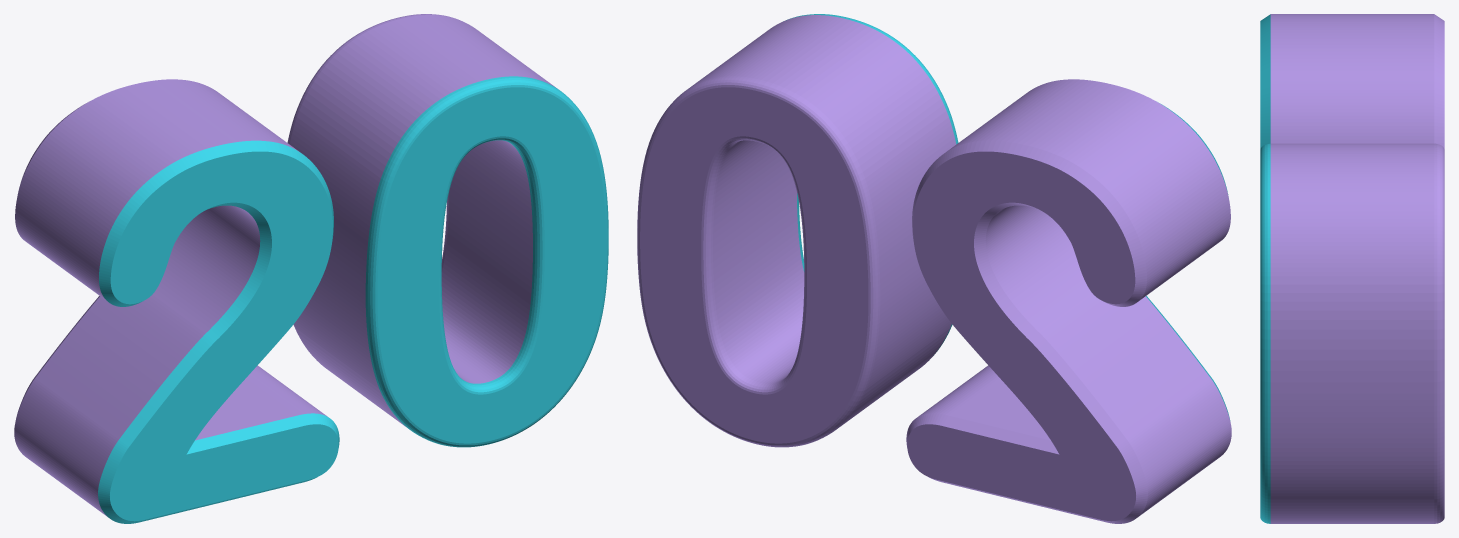
The picture shows the model from 3 angles, left to right: view 1: azimuth 30°, elevation 25°; view 2: azimuth 150°, elevation 25°; view 3: azimuth 270°, elevation 25°; orthographic projection. The views are drawn at different scales.
Parts seen in each view (by area): view 1: Text.021; view 2: Text.021; view 3: Text.021.
Boxes of the visible parts, <box> form: Text.021: <box>14,14,608,523</box>; Text.021: <box>637,14,1231,523</box>; Text.021: <box>1260,14,1444,523</box>.
Size of the model in its own units: 241 by 164 by 77.6.
